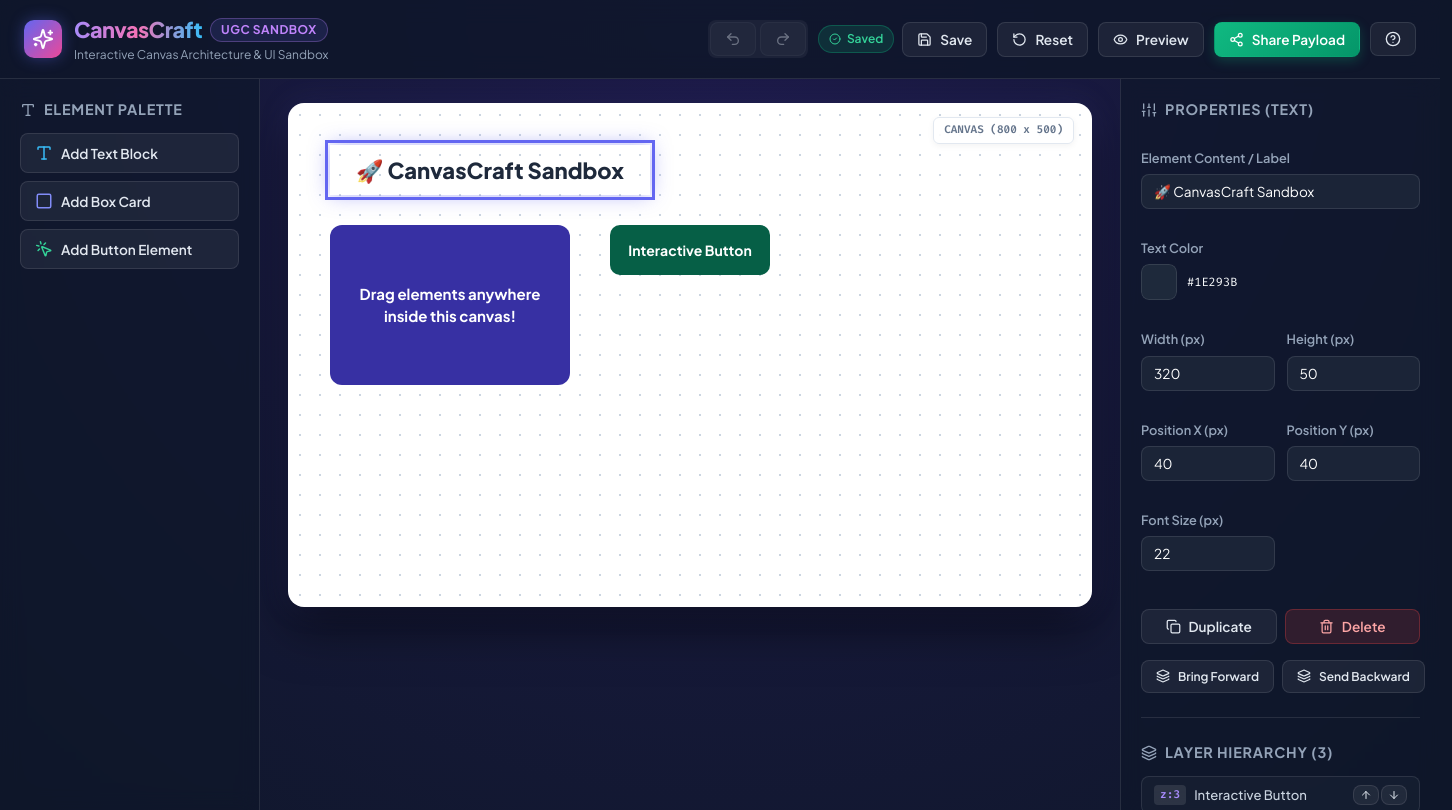
Test case: CanvasCraft UI Integration Tests › adds a new text block when clicking Add Text Block
Click the button "Add Text Block": {"x": 130, "y": 153} [20, 133, 239, 173]
(page scrolled)
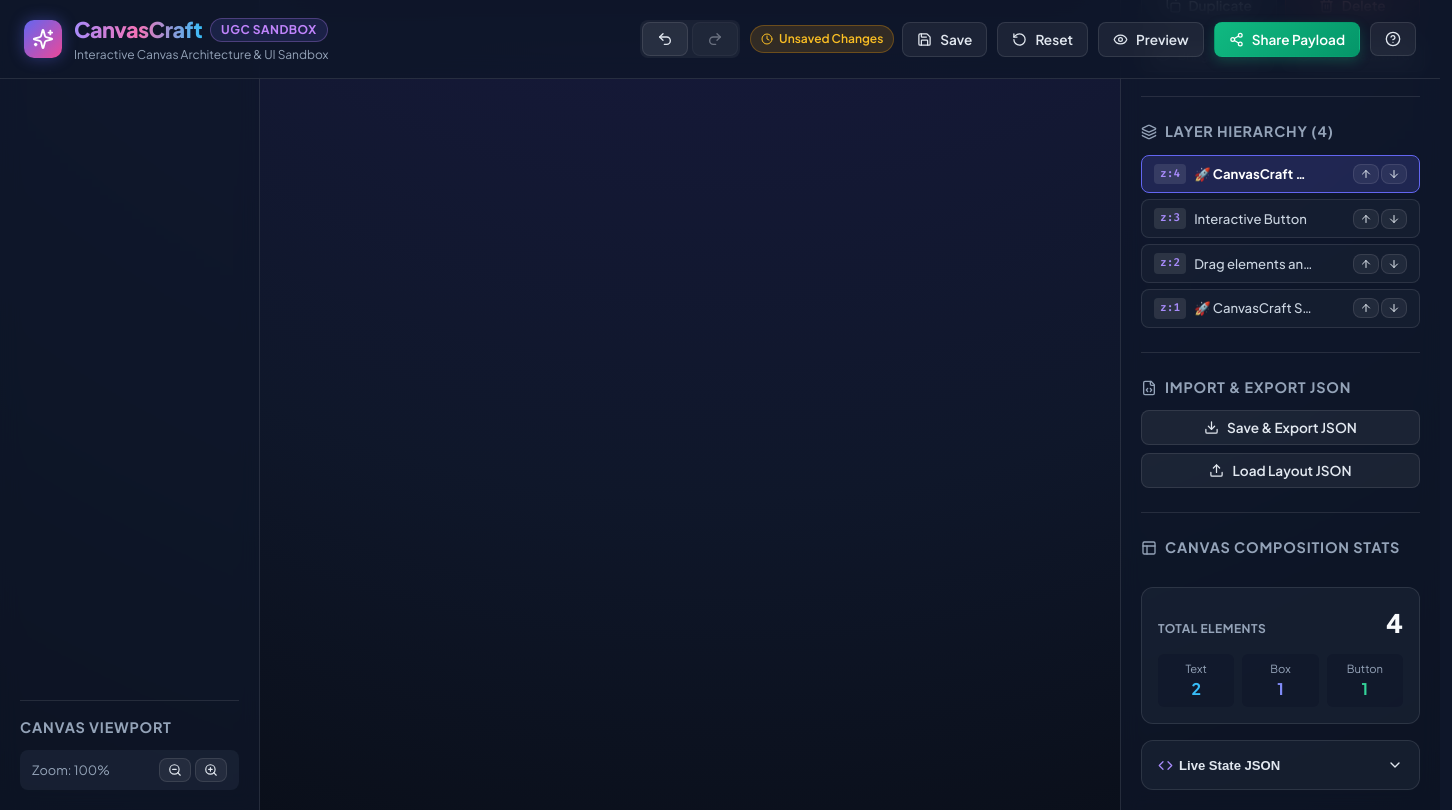
Expected: the text "4" is shown, [1386, 604, 1403, 642]
